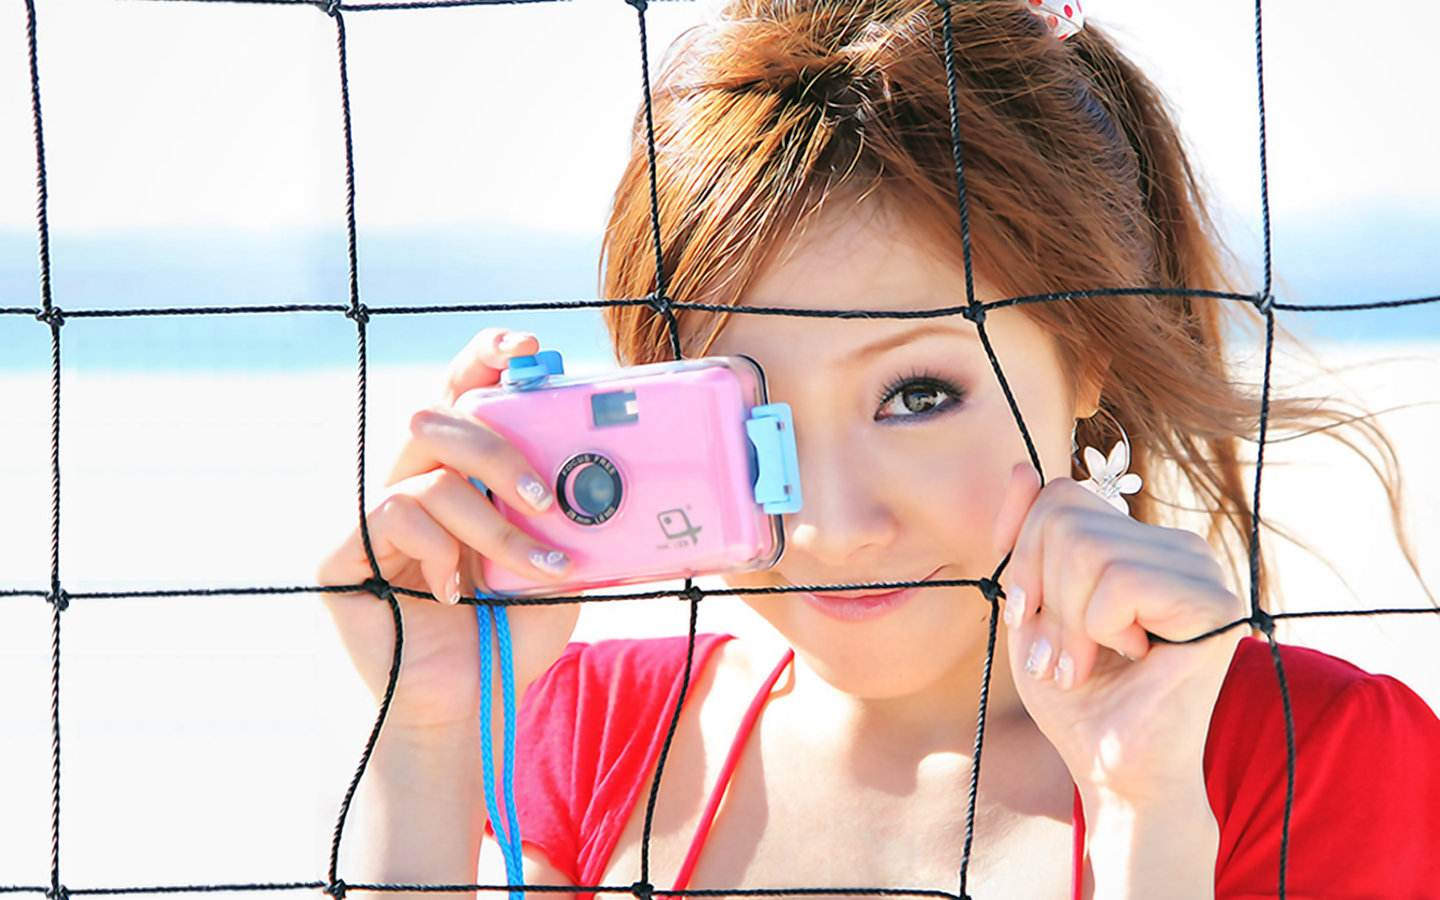person: (461, 60, 1335, 900)
